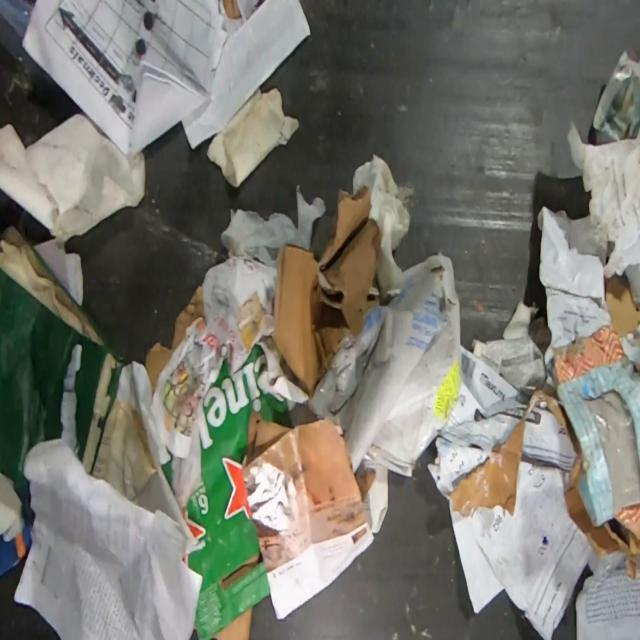cardboard: (160, 340, 310, 640), (446, 387, 594, 639), (0, 227, 122, 502), (272, 186, 383, 392), (552, 322, 640, 530), (563, 452, 640, 556), (146, 284, 204, 398), (605, 273, 640, 339)
soft_plastic: (353, 154, 415, 298), (220, 184, 326, 267), (0, 0, 54, 82)
